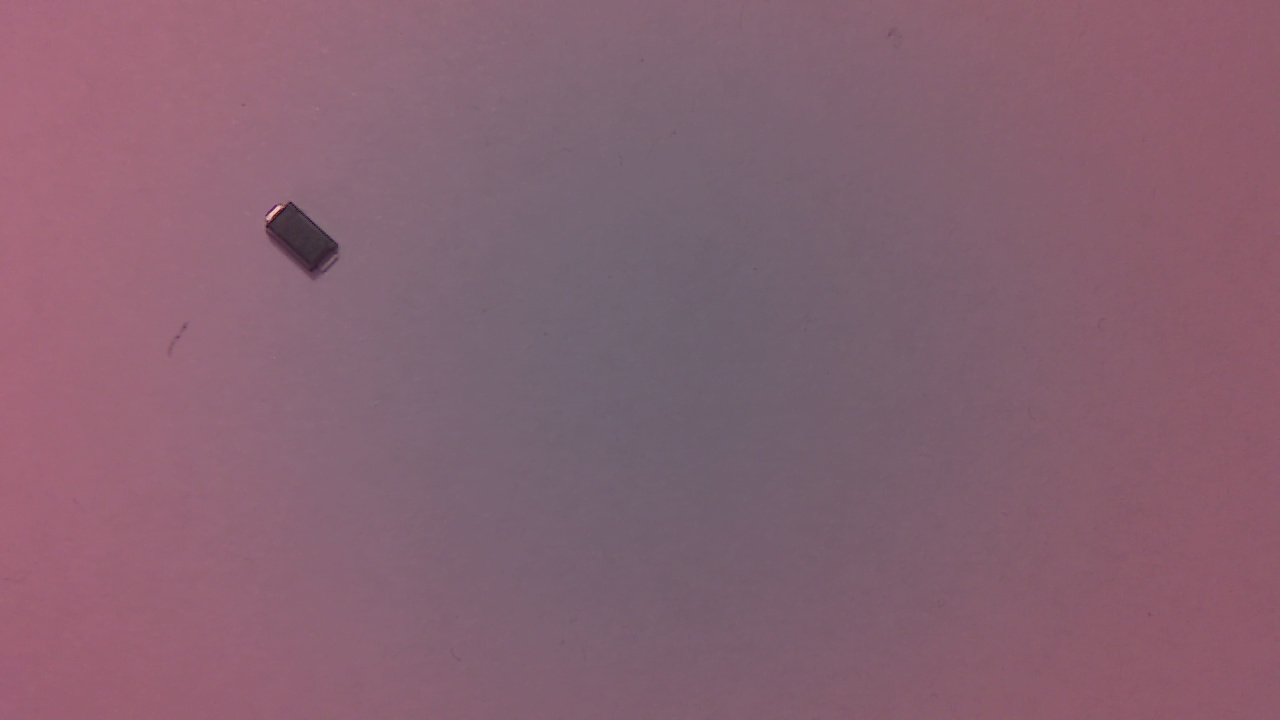Diode: (266, 201, 348, 287)
